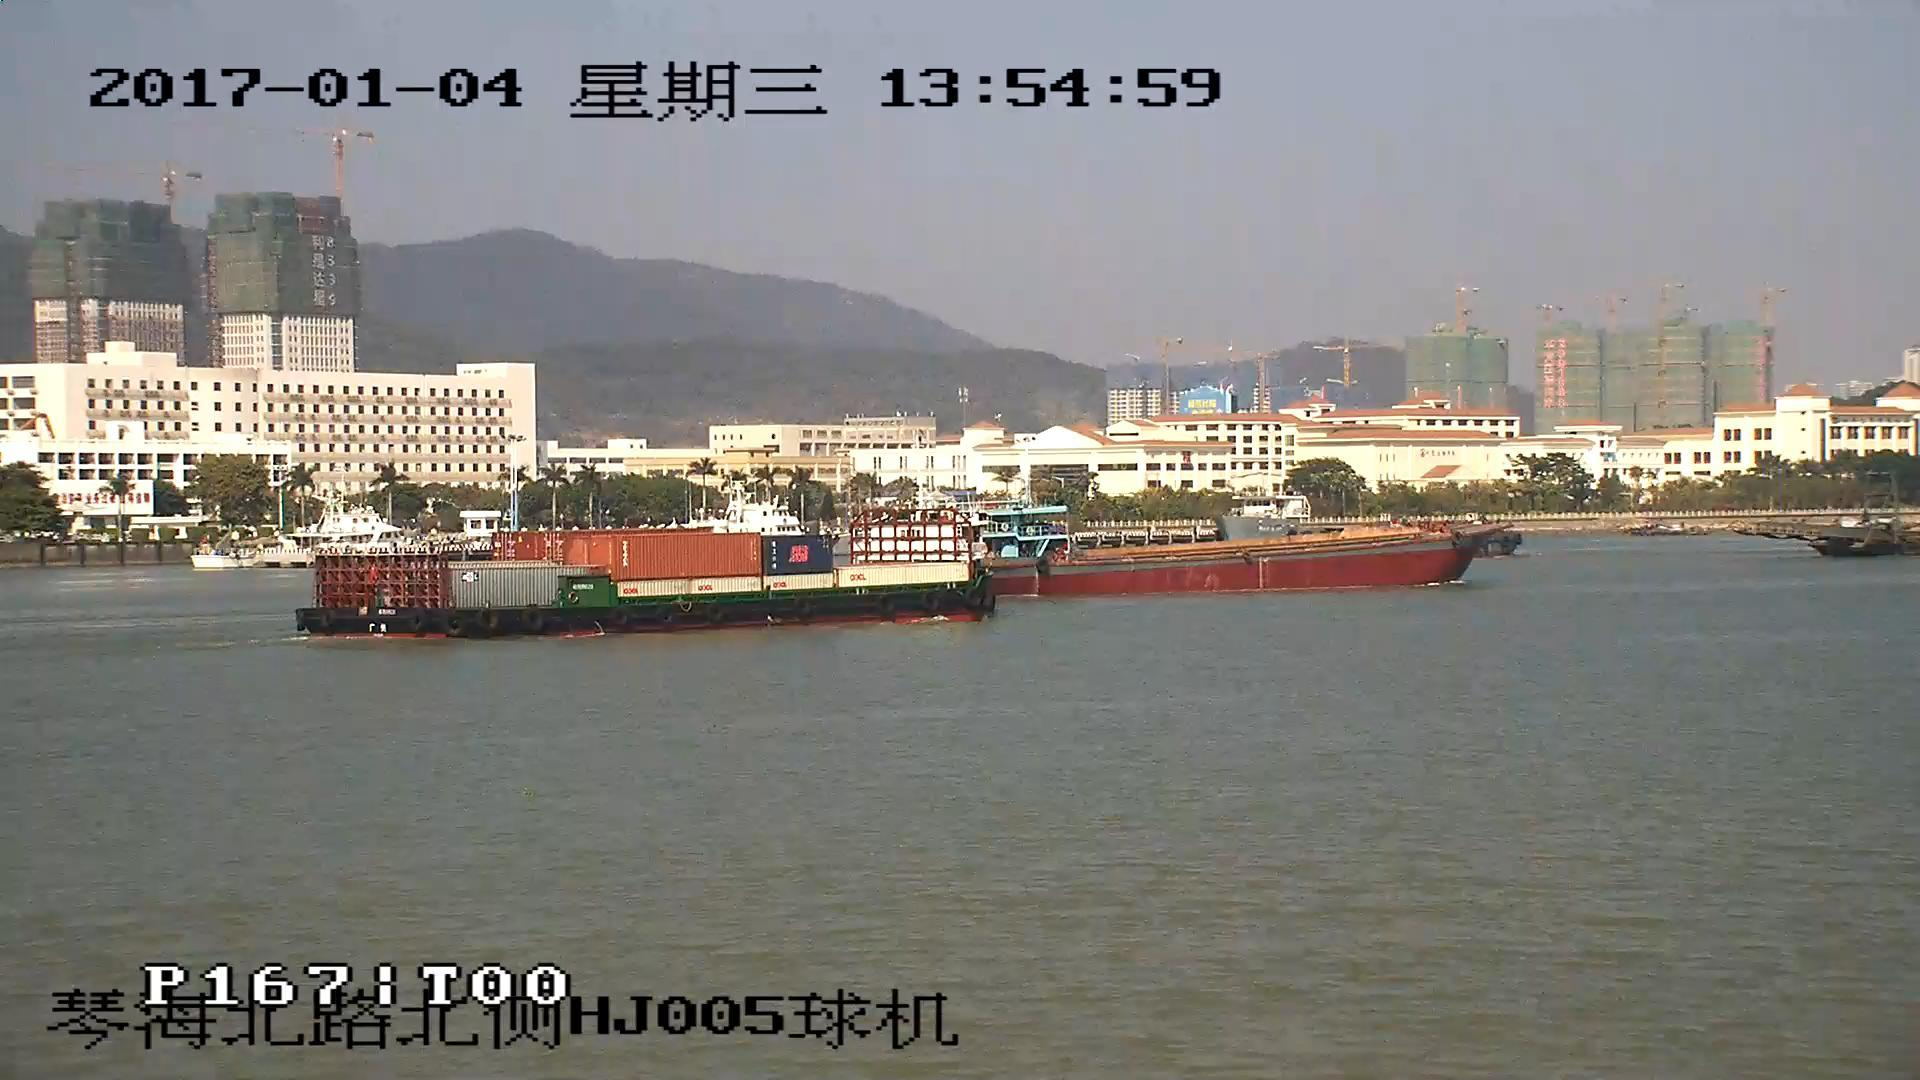Ship: (299, 512, 997, 637), (1004, 527, 1509, 593)
